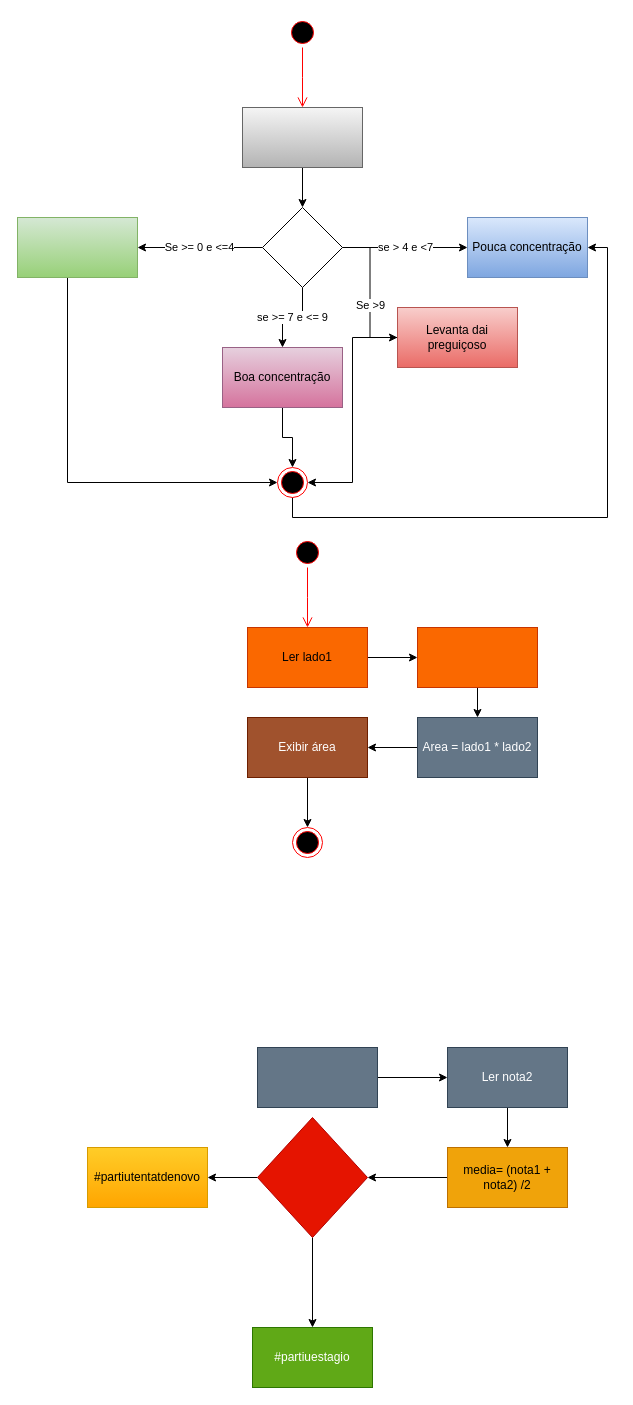
This 633x1405 diagram has some shape labels left out. Here are the shapes that lost their labels. From the top down, the centre of each, then its label:
At (302,137): "Ler horas de sono".
At (77,247): "Exibir, zumbi".
At (477,657): "Ler lado 2".
At (317,1077): "Ler nota1".
At (312,1177): "Se (media >= 6)".
